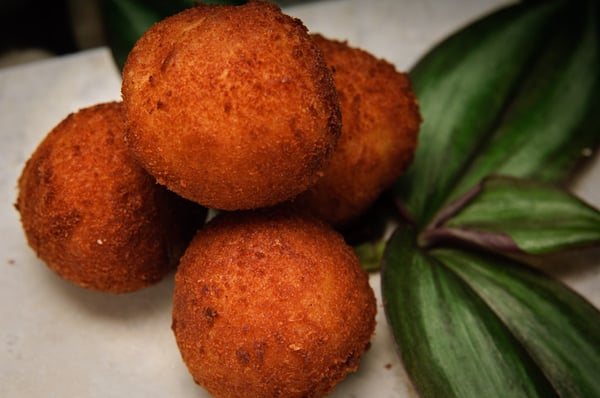salad: (170, 210, 378, 395), (16, 100, 186, 295)
